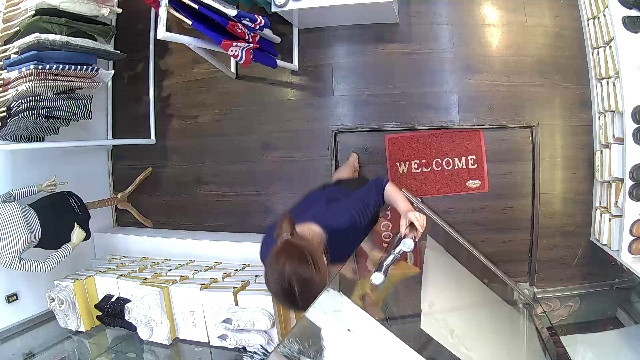topviewhead: (254, 239, 337, 315)
